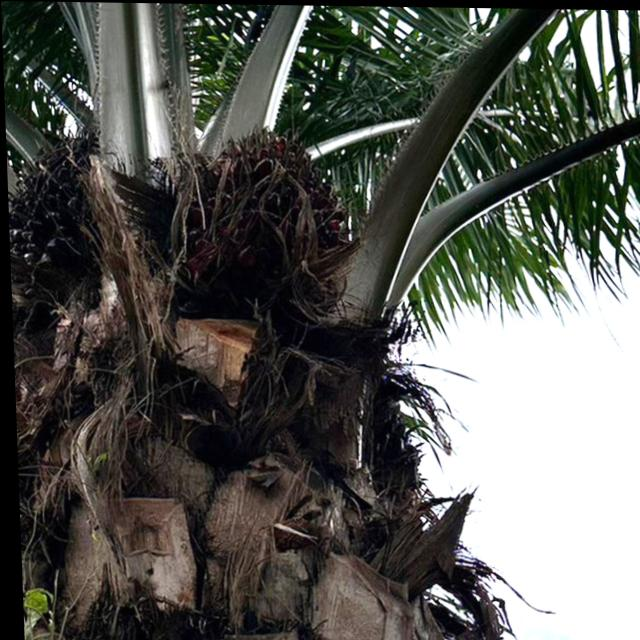ripe: (151, 107, 370, 324)
